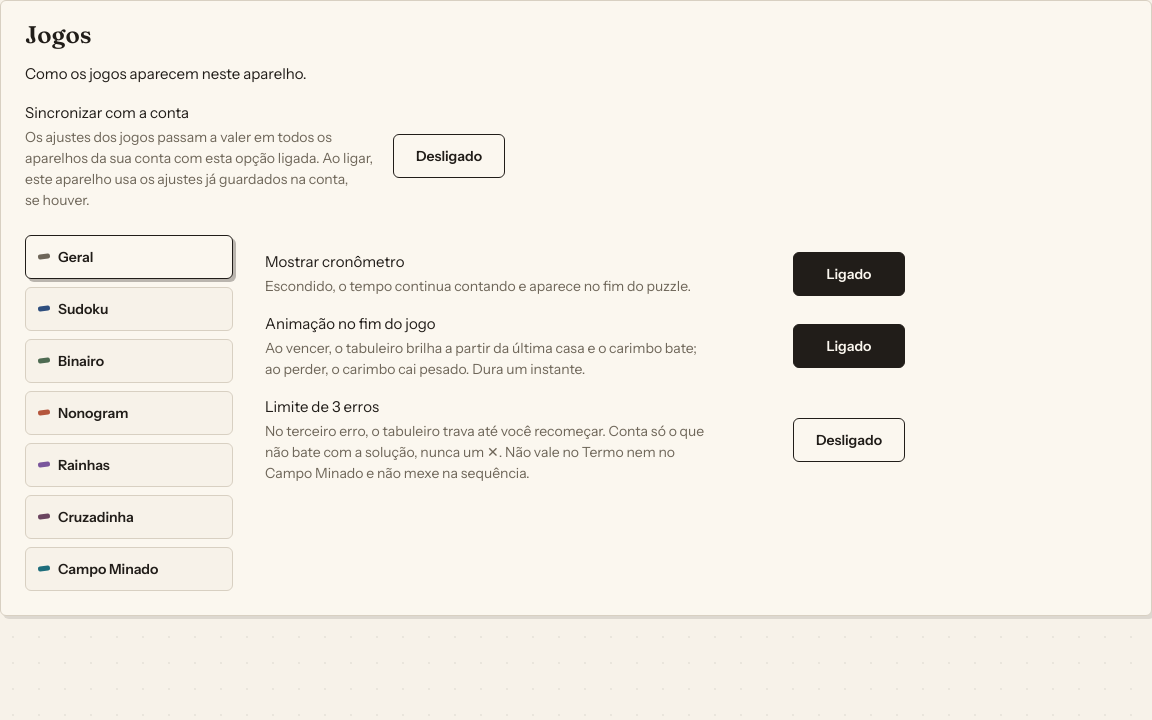
Test case: Marcar ✕ ao completar a linha is a four-way choice in Ajustes (T-WEB-S977) › offers Sempre, Sempre e mostrar o erro, Só se estiver certa and Desligado under Nonogram, Sempre checked
Click the tab "Nonogram".
click(129, 413)  # box [25,391,233,435]
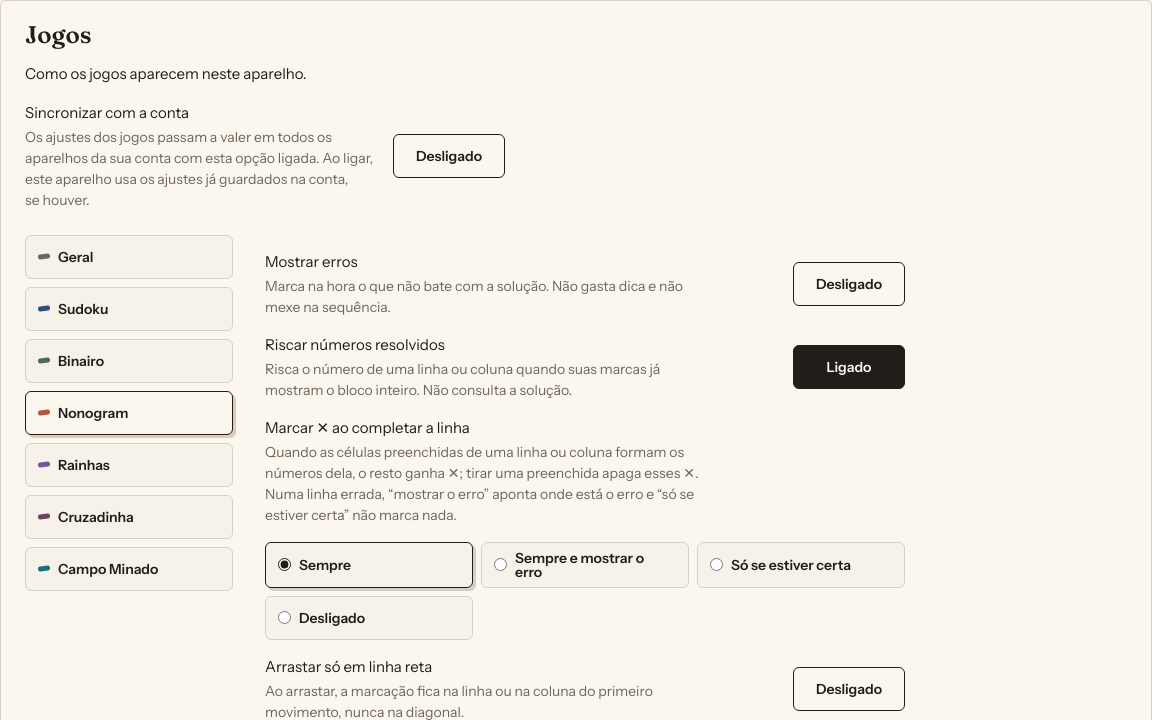
expect the radio button labelled "Sempre" is checked: met, box [278,558,291,571]
